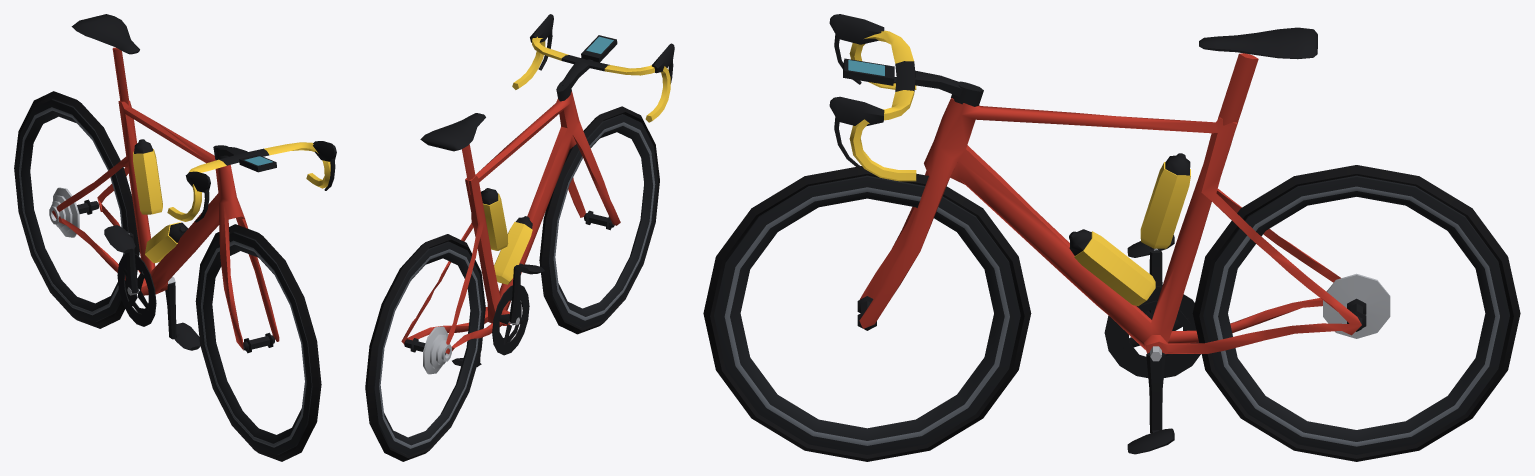
File: bike_lod1.glb
3 views of the same model, side by side, from view 1: azimuth 30°, elevation 25°; view 2: azimuth 150°, elevation 25°; view 3: azimuth 270°, elevation 25° (orthographic). The views are drawn at different scales.
Visible parts, largest first — view 1: frame, wheel_front, wheel_rear, crankset, pedal_R, pedal_L; view 2: frame, wheel_rear, wheel_front, crankset; view 3: frame, wheel_rear, wheel_front, crankset.
Boxes of the visible parts, x1,y1,x2,y2 form: frame: [52, 14, 336, 350]; wheel_front: [195, 224, 321, 461]; wheel_rear: [14, 91, 139, 328]; crankset: [117, 232, 176, 339]; pedal_R: [104, 225, 135, 253]; pedal_L: [175, 322, 200, 350]; frame: [401, 14, 674, 354]; wheel_rear: [365, 234, 485, 461]; wheel_front: [539, 106, 659, 334]; crankset: [476, 265, 529, 366]; frame: [829, 14, 1361, 353]; wheel_rear: [1192, 165, 1520, 461]; wheel_front: [703, 166, 1031, 461]; crankset: [1104, 250, 1200, 433].
Size of the model in its own units: 0.4652 by 0.9585 by 1.67.
